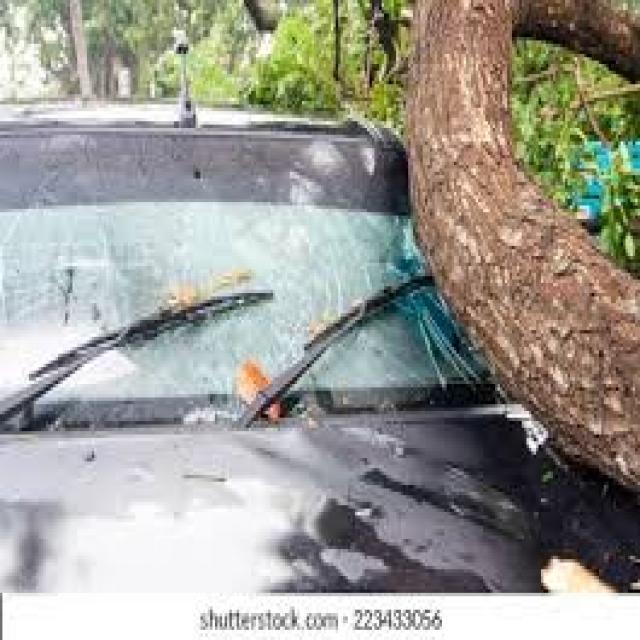damaged-windscreen: (0, 114, 485, 420)
